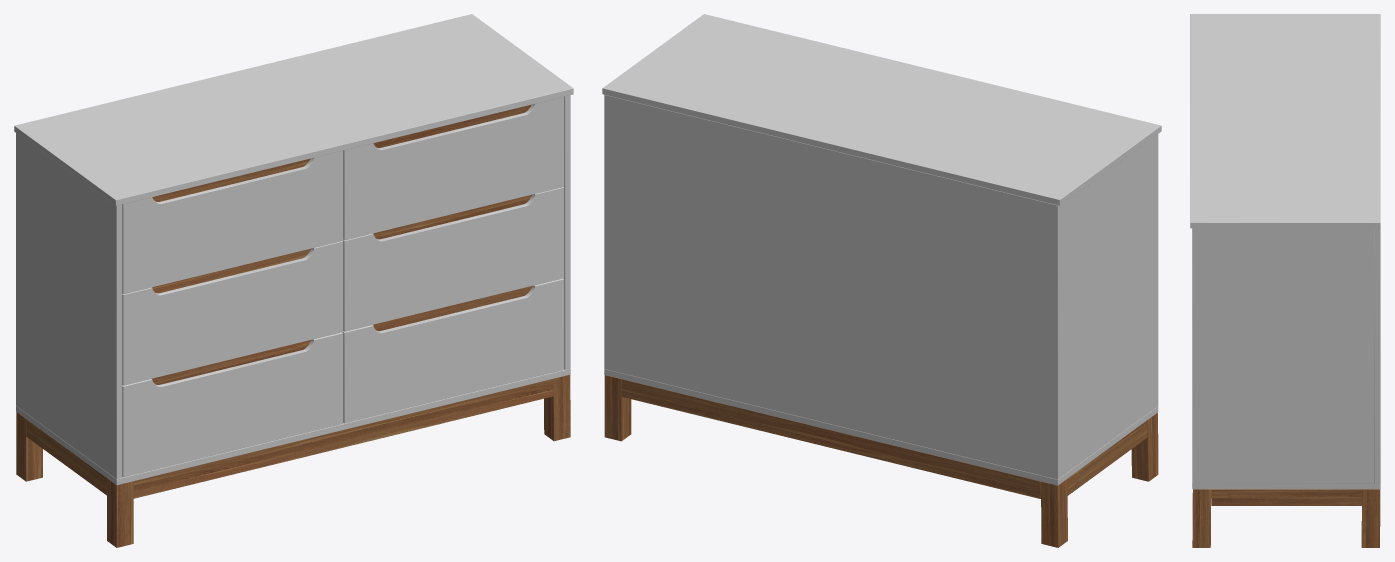
Rendered from Laci bawah etalase.fbx.
3 views of the same model, side by side, from view 1: azimuth 30°, elevation 25°; view 2: azimuth 150°, elevation 25°; view 3: azimuth 270°, elevation 25° (orthographic). The views are drawn at different scales.
Parts seen in each view (by area): view 1: Chest of drawers 6 Drawers; view 2: Chest of drawers 6 Drawers; view 3: Chest of drawers 6 Drawers.
Boxes of the visible parts, x1,y1,x2,y2 form: Chest of drawers 6 Drawers: (14,14,573,547); Chest of drawers 6 Drawers: (602,14,1161,547); Chest of drawers 6 Drawers: (1190,14,1380,547).
Bounding box in the file's own units: 119 × 86.7 × 45.8.
2 materials, 1 textured.
